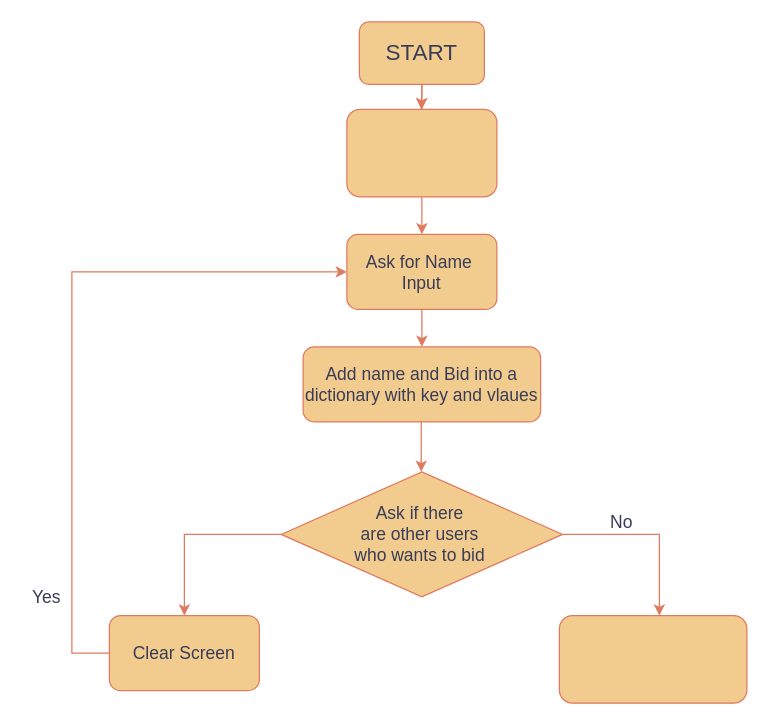
This 769x725 diagram has some shape labels left out. The shapes that lost their labels are listed below. From the top down, each one's box as (x1, y1, x2, y2) in pixels, then its label:
(346, 108, 497, 197): Show Logo from art.py
(558, 614, 747, 703): Find the highest bid from the dictionary and declare as the winner
